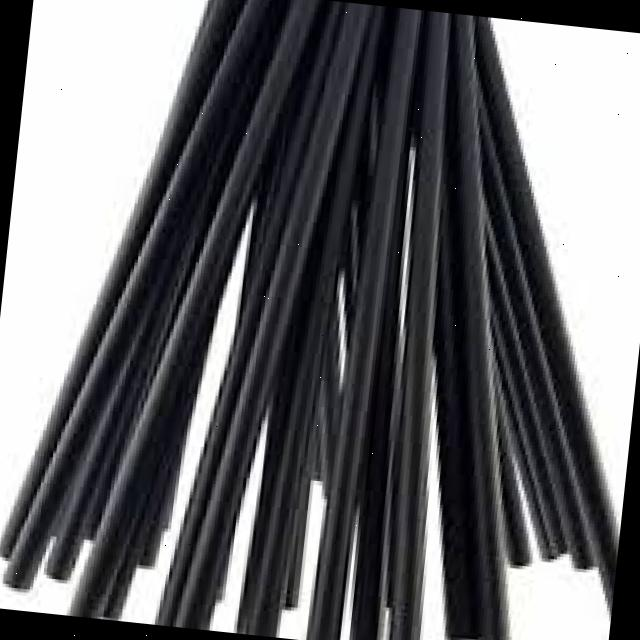plastic: (507, 25, 640, 640)
